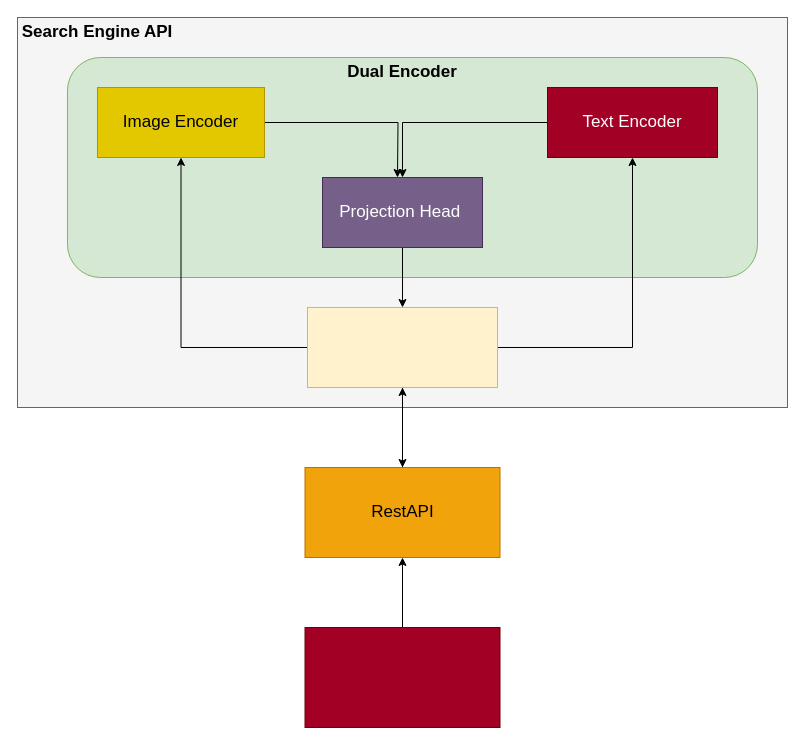
Some shapes in this 805 by 745 pixel diagram are drawn without their labels. Here are the shapes that lost their labels. From the top down, the centre of each, then its label:
At (x=402, y=347): "Search Engine".
At (x=402, y=677): "Streamlit UI".
